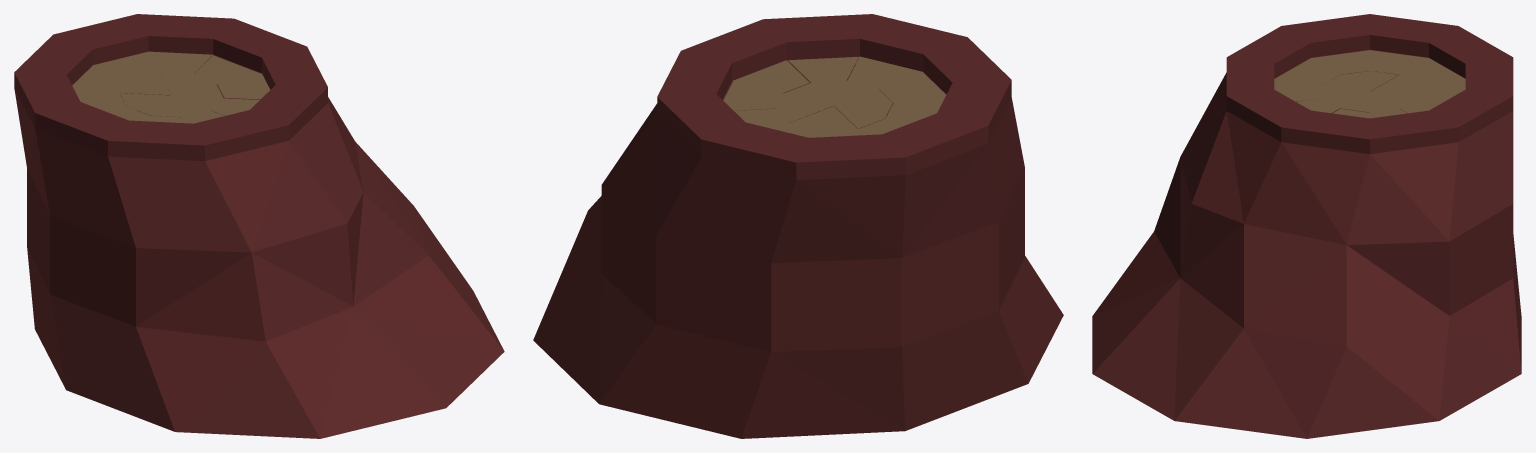
The model's file is TreeBase.fbx.
The picture shows the model from 3 angles, left to right: view 1: azimuth 30°, elevation 25°; view 2: azimuth 150°, elevation 25°; view 3: azimuth 270°, elevation 25°; orthographic projection. The views are drawn at different scales.
Visible parts, largest first — view 1: pCylinder1; view 2: pCylinder1; view 3: pCylinder1.
Part boxes in pixels (x1=…): pCylinder1: x1=14, y1=14, x2=504, y2=438; pCylinder1: x1=533, y1=14, x2=1063, y2=438; pCylinder1: x1=1092, y1=14, x2=1521, y2=438.
Size of the model in its own units: 2.3 by 1.36 by 2.22.
